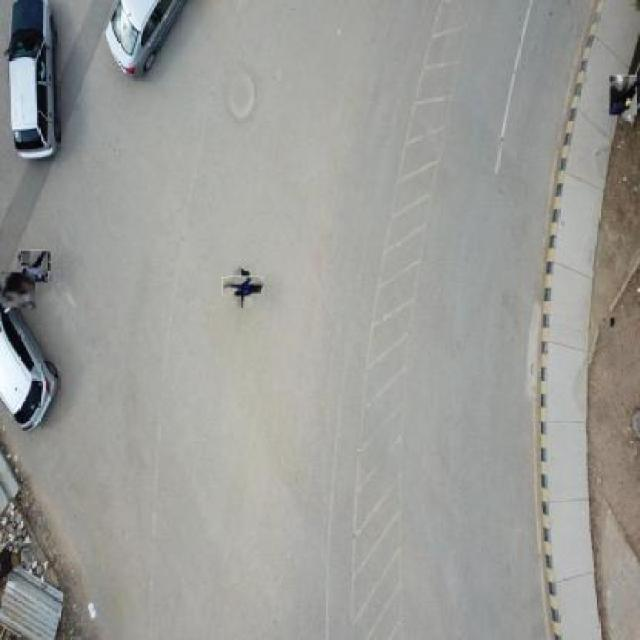Person: (610, 75, 638, 116), (227, 271, 261, 304), (1, 274, 34, 308), (19, 251, 50, 283)
